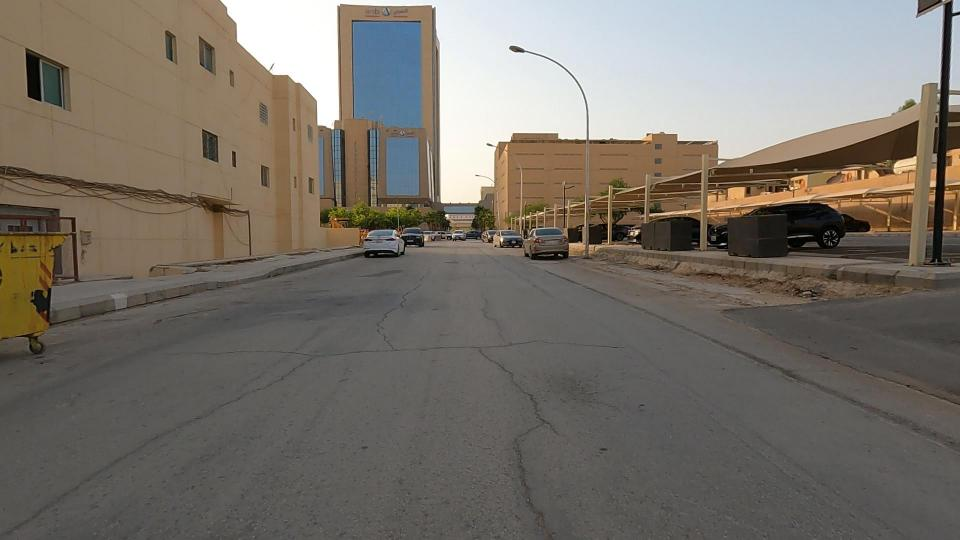POTHOLES: (429, 290, 589, 484), (314, 253, 475, 391), (443, 418, 606, 540)
